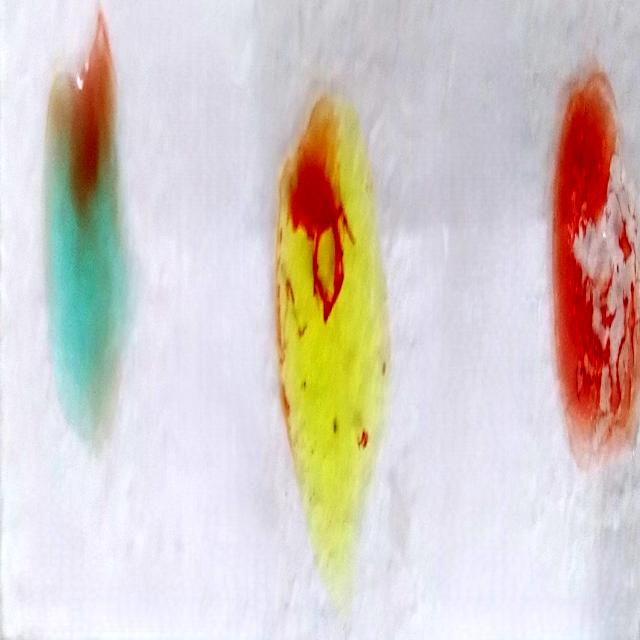B: (280, 126, 385, 551)
D: (556, 99, 638, 479)
